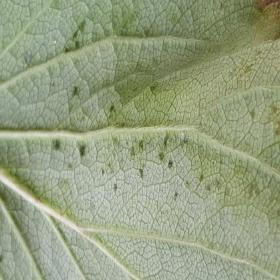Angular Leafspot: (46, 16, 279, 204)
